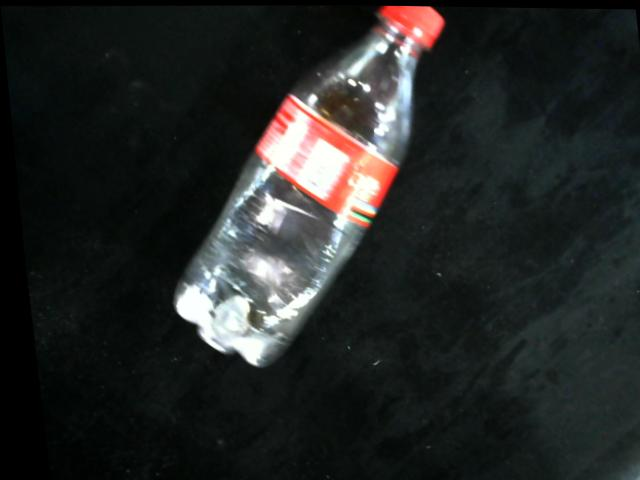bottle: (166, 4, 447, 367)
